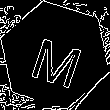M_N: (24, 24, 86, 86)
